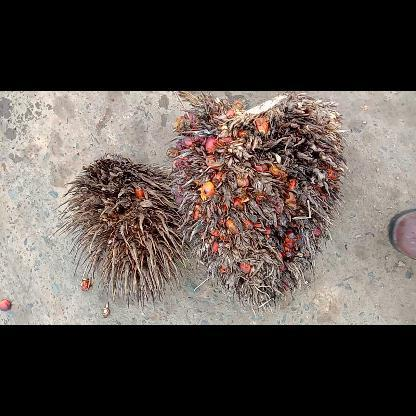Janjang kosong: (54, 152, 192, 308)
Terlalu masak: (166, 91, 348, 313)
